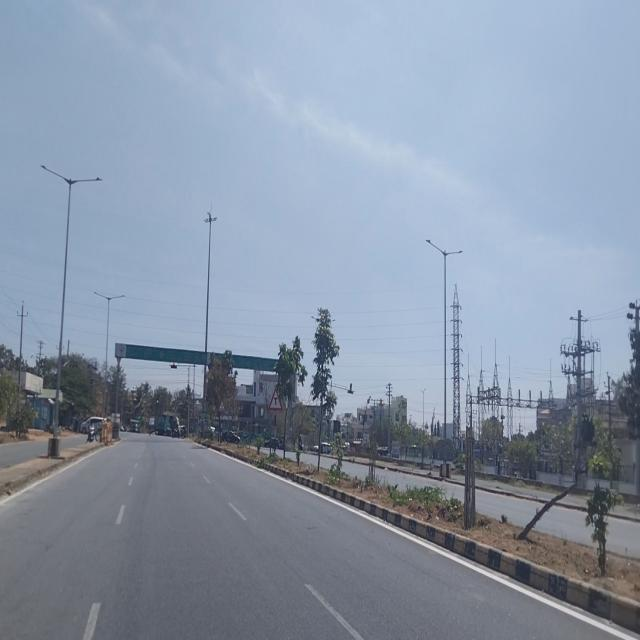bien_cam: (269, 387, 282, 411)
